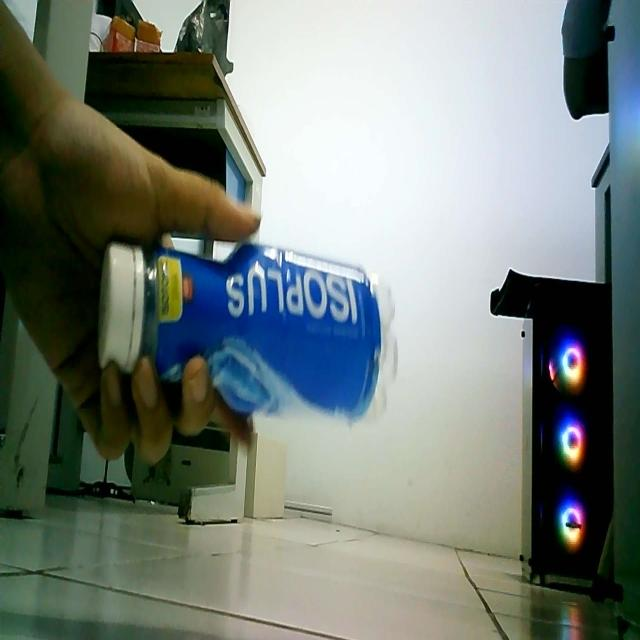botol: (78, 187, 425, 491)
